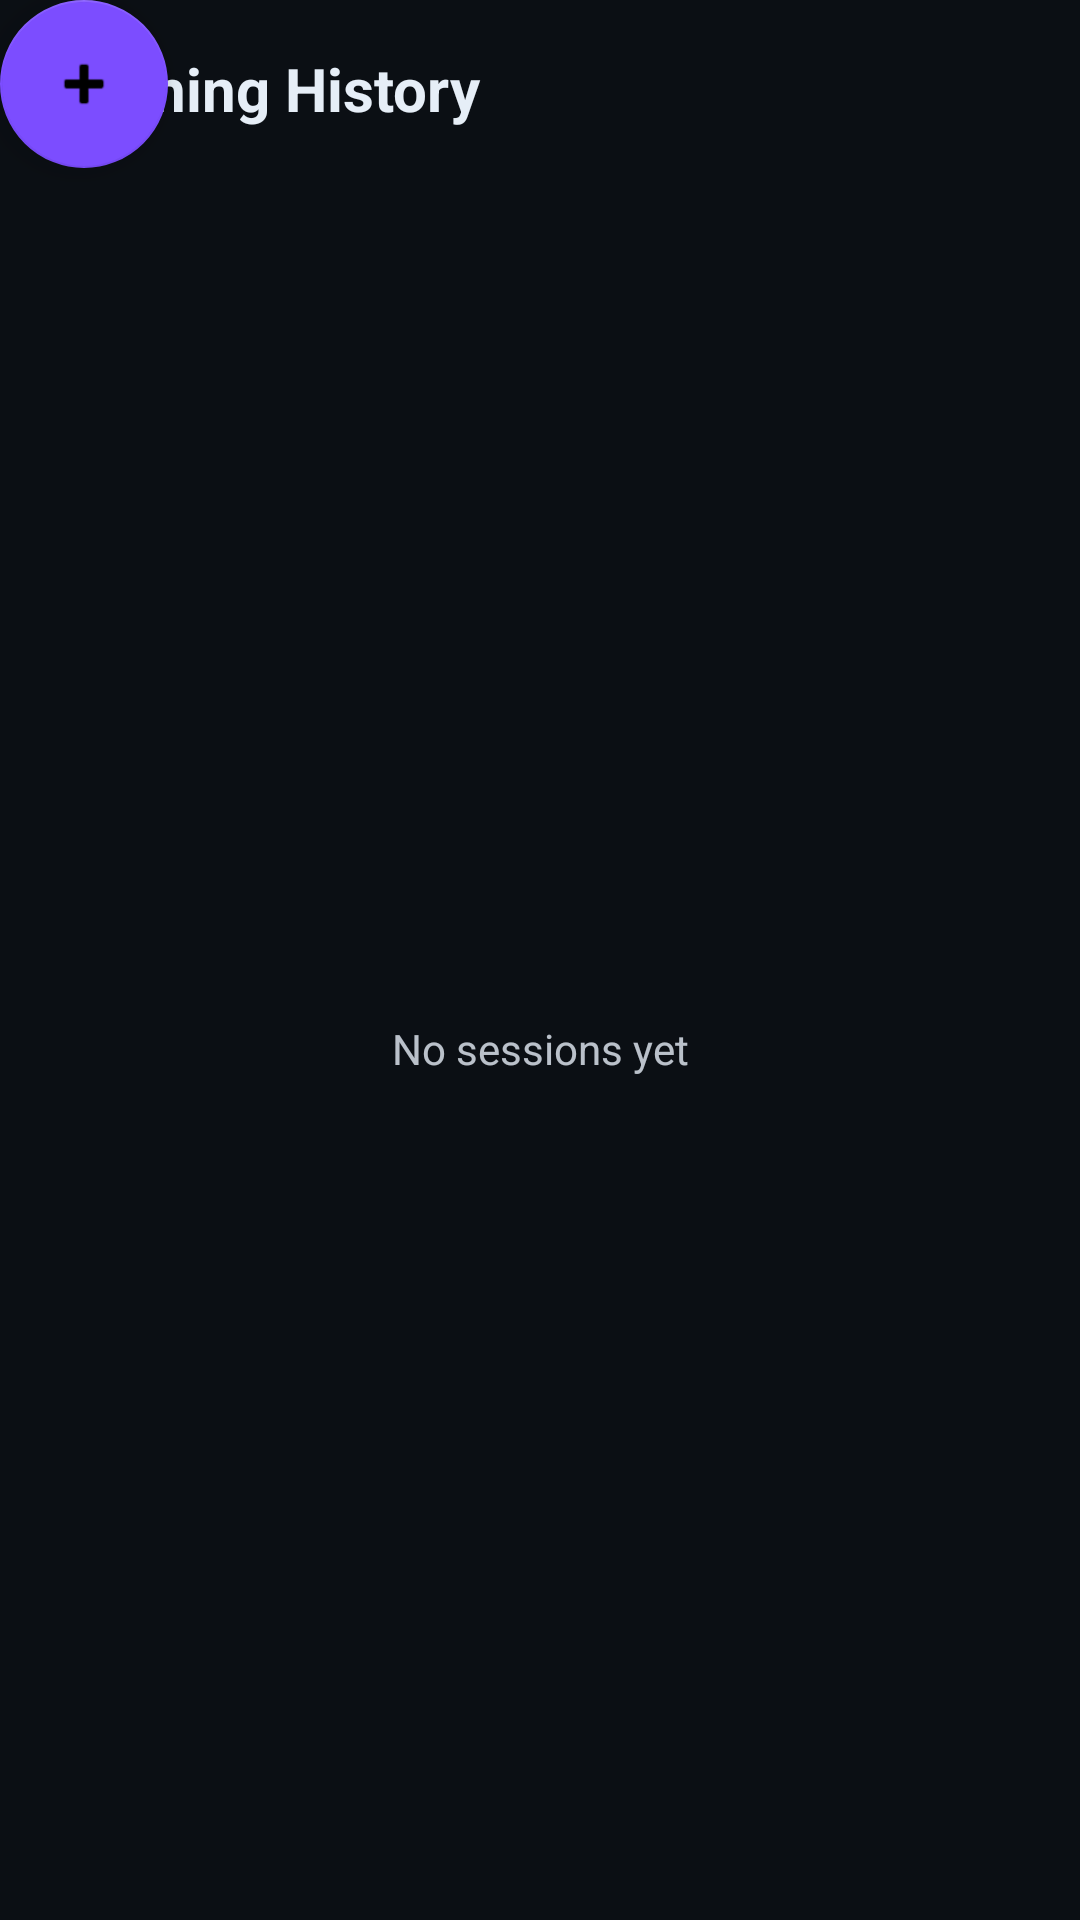

Icons on this 1080x1920 Android screen, each with the point to tap as (x,y):
Add session: (84,84)
